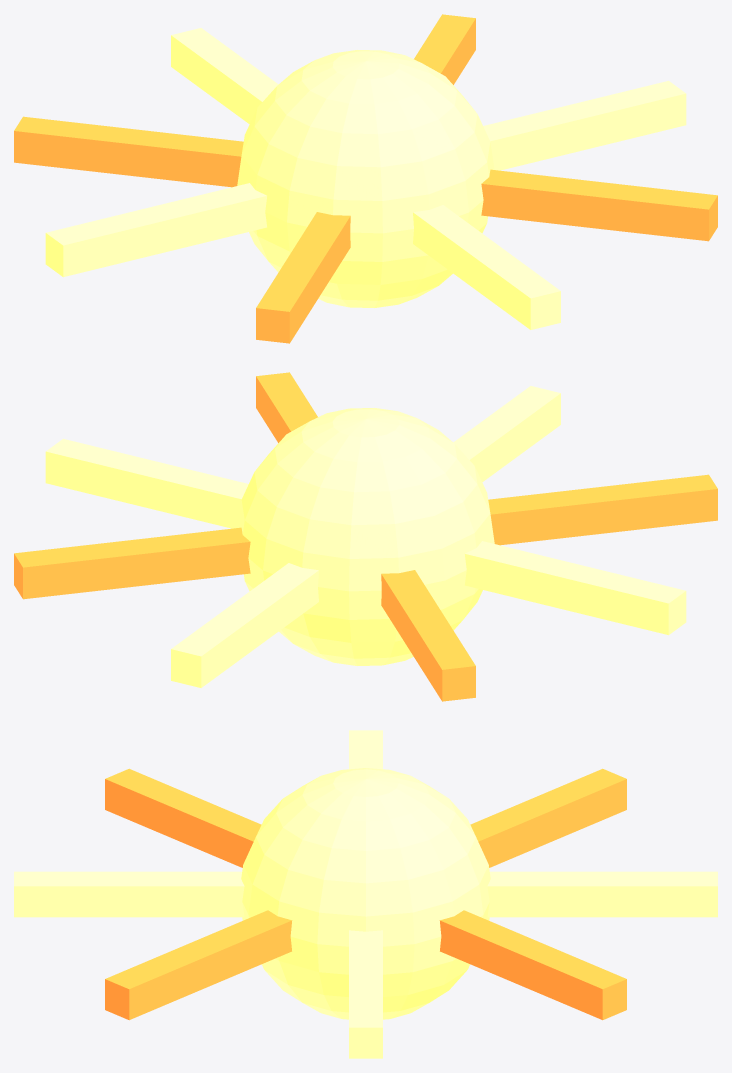
The model's file is hit_spark.glb.
3 views of the same model, one above another, from view 1: azimuth 30°, elevation 25°; view 2: azimuth 150°, elevation 25°; view 3: azimuth 270°, elevation 25° (orthographic). The views are drawn at different scales.
Parts seen in each view (by area): view 1: hit spark center, hit spark shard 7, hit spark shard 3, hit spark shard 4, hit spark shard 0, hit spark shard 6, hit spark shard 5, hit spark shard 2, hit spark shard 1; view 2: hit spark center, hit spark shard 1, hit spark shard 5, hit spark shard 4, hit spark shard 0, hit spark shard 2, hit spark shard 3, hit spark shard 6, hit spark shard 7; view 3: hit spark center, hit spark shard 2, hit spark shard 6, hit spark shard 1, hit spark shard 7, hit spark shard 3, hit spark shard 5, hit spark shard 0, hit spark shard 4.
Boxes of the visible parts, x1=… form: hit spark center: x1=237, y1=50, x2=494, y2=307; hit spark shard 7: x1=481, y1=169, x2=717, y2=241; hit spark shard 3: x1=14, y1=116, x2=243, y2=187; hit spark shard 4: x1=45, y1=183, x2=266, y2=277; hit spark shard 0: x1=483, y1=80, x2=686, y2=170; hit spark shard 6: x1=413, y1=205, x2=560, y2=329; hit spark shard 5: x1=256, y1=212, x2=350, y2=343; hit spark shard 2: x1=171, y1=28, x2=278, y2=123; hit spark shard 1: x1=414, y1=14, x2=475, y2=84; hit spark center: x1=237, y1=408, x2=494, y2=665; hit spark shard 1: x1=14, y1=527, x2=250, y2=599; hit spark shard 5: x1=488, y1=474, x2=717, y2=545; hit spark shard 4: x1=465, y1=541, x2=686, y2=635; hit spark shard 0: x1=45, y1=438, x2=248, y2=528; hit spark shard 2: x1=171, y1=563, x2=318, y2=687; hit spark shard 3: x1=381, y1=570, x2=475, y2=701; hit spark shard 6: x1=453, y1=386, x2=560, y2=481; hit spark shard 7: x1=256, y1=372, x2=317, y2=442; hit spark center: x1=241, y1=768, x2=490, y2=1019; hit spark shard 2: x1=487, y1=871, x2=717, y2=917; hit spark shard 6: x1=14, y1=871, x2=244, y2=917; hit spark shard 1: x1=439, y1=910, x2=626, y2=1020; hit spark shard 7: x1=105, y1=910, x2=292, y2=1020; hit spark shard 3: x1=470, y1=768, x2=626, y2=867; hit spark shard 5: x1=105, y1=768, x2=261, y2=867; hit spark shard 0: x1=349, y1=930, x2=382, y2=1058; hit spark shard 4: x1=349, y1=730, x2=382, y2=769.
Bounding box in the file's own units: 0.72 × 0.26 × 0.72.
